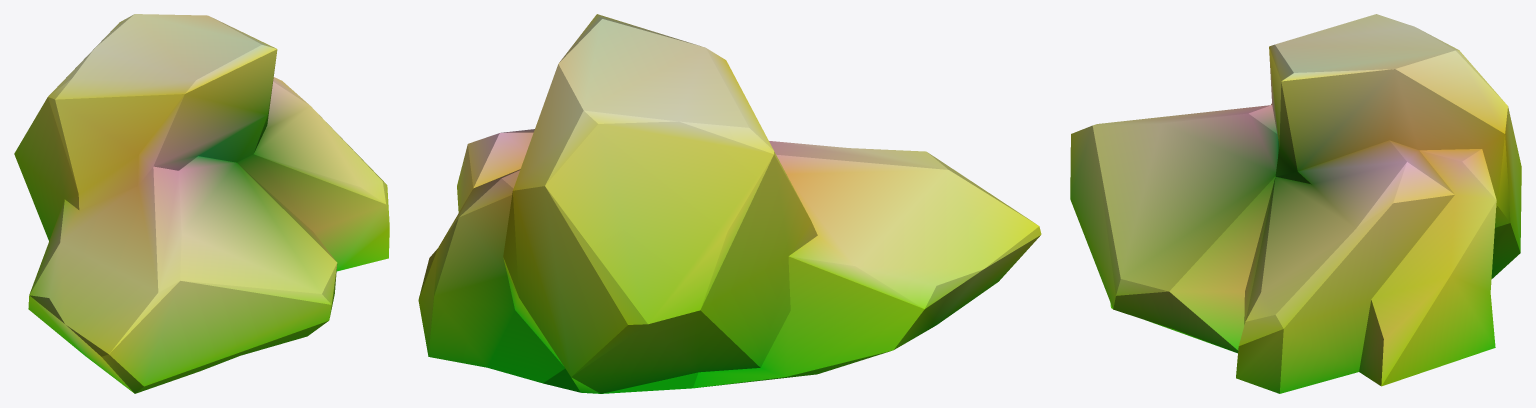
File: rock_group_02_LOD2.fbx
3 views of the same model, side by side, from view 1: azimuth 30°, elevation 25°; view 2: azimuth 150°, elevation 25°; view 3: azimuth 270°, elevation 25° (orthographic). The views are drawn at different scales.
Parts seen in each view (by area): view 1: LOD2; view 2: LOD2; view 3: LOD2.
Part boxes in pixels (x1,y1,x2,y2): LOD2: (14,14,389,393); LOD2: (418,14,1041,393); LOD2: (1070,14,1521,393).
Size of the model in its own units: 369 by 211 by 338.
